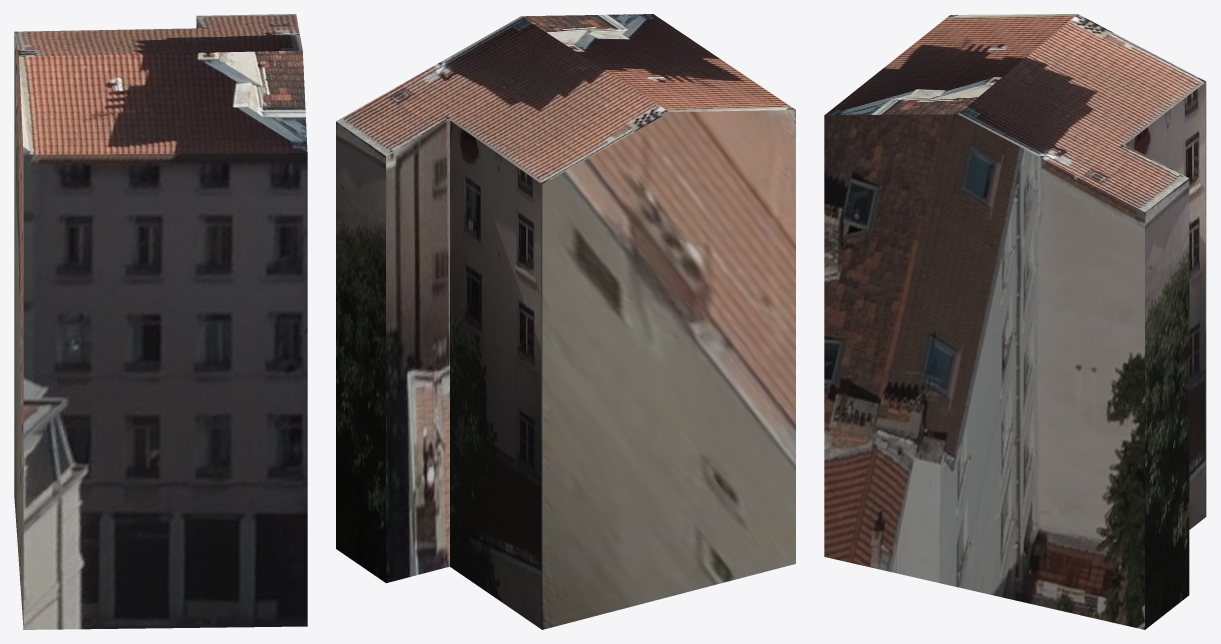
3 renders of one model, left to right at view 1: azimuth 30°, elevation 25°; view 2: azimuth 150°, elevation 25°; view 3: azimuth 270°, elevation 25°, orthographic. The views are drawn at different scales.
Visible parts, largest first — view 1: Z_UP; view 2: Z_UP; view 3: Z_UP.
Boxes of the visible parts, bbox=[...] form: Z_UP: bbox=[14, 14, 307, 629]; Z_UP: bbox=[336, 14, 795, 629]; Z_UP: bbox=[824, 14, 1206, 629].
Size of the model in its own units: 15.11 by 19.43 by 14.21.
Materials: 2 (1 with a texture image).
